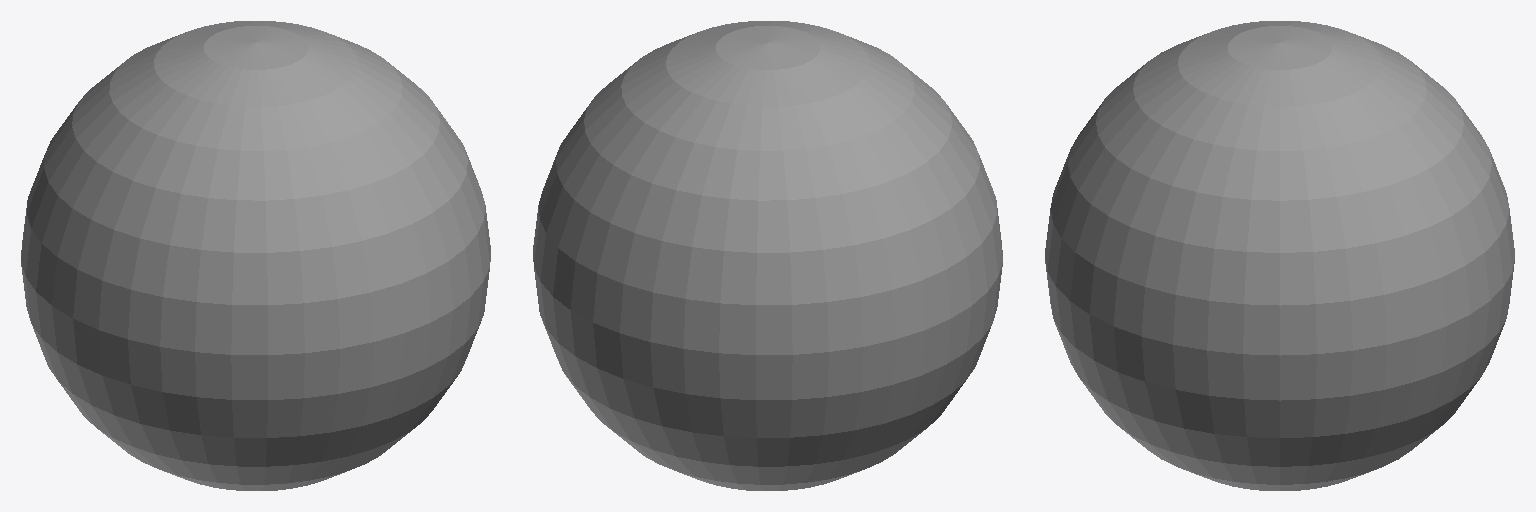
File: spheretest2.obj
3 views of the same model, side by side, from view 1: azimuth 30°, elevation 25°; view 2: azimuth 150°, elevation 25°; view 3: azimuth 270°, elevation 25° (orthographic).
Parts seen in each view (by area): view 1: Sphere; view 2: Sphere; view 3: Sphere.
Boxes of the visible parts, <box> form: Sphere: <box>21,21,490,490</box>; Sphere: <box>533,21,1002,490</box>; Sphere: <box>1045,21,1514,490</box>.
Bounding box in the file's own units: 2 × 2 × 2.